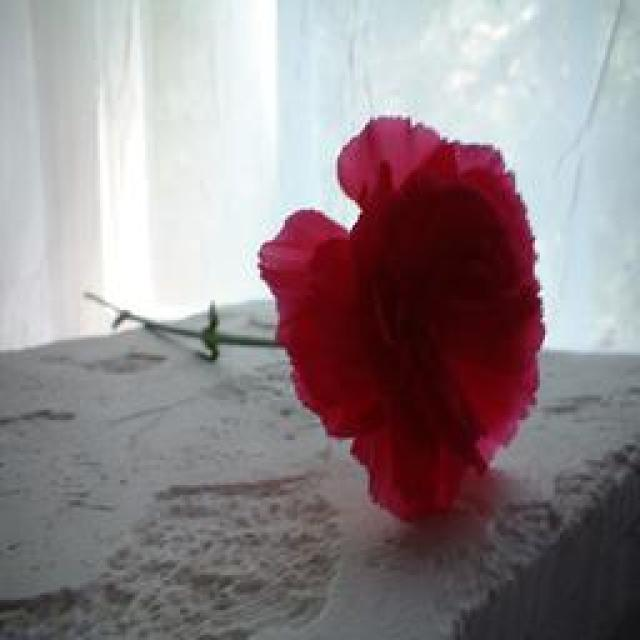carnation: (264, 94, 584, 554)
